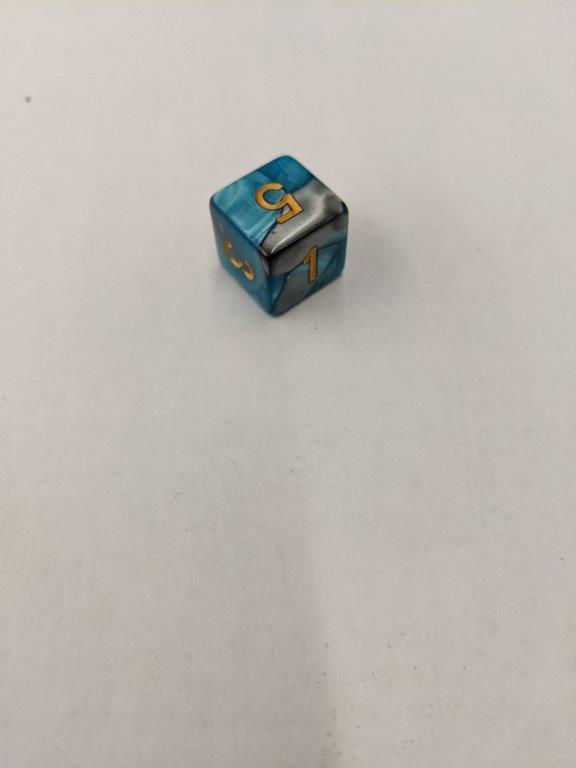d6-5: (209, 154, 348, 318)
